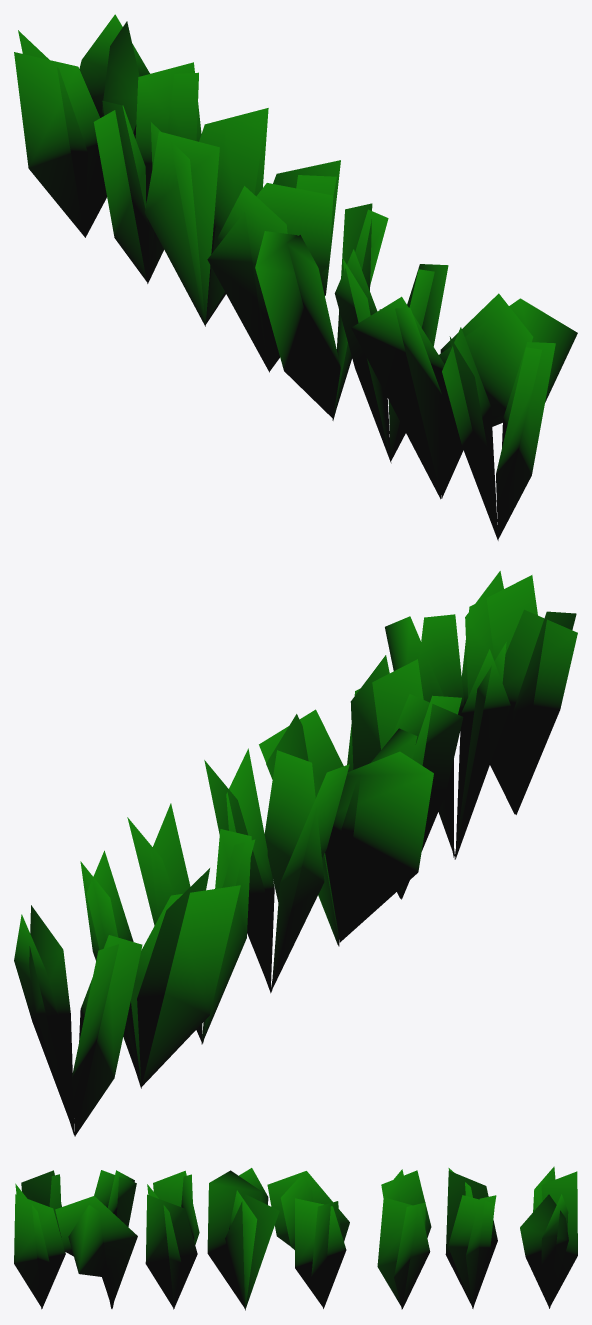
File: RiceGrown_1.fbx
3 views of the same model, one above another, from view 1: azimuth 30°, elevation 25°; view 2: azimuth 150°, elevation 25°; view 3: azimuth 270°, elevation 25° (orthographic). The views are drawn at different scales.
Visible parts, largest first — view 1: RiceGrown_1; view 2: RiceGrown_1; view 3: RiceGrown_1.
Part boxes in pixels (<box>): RiceGrown_1: <box>14,14,577,540</box>; RiceGrown_1: <box>14,571,577,1136</box>; RiceGrown_1: <box>14,1166,577,1310</box>.
Bounding box in the file's own units: 65.53 × 71.64 × 282.
